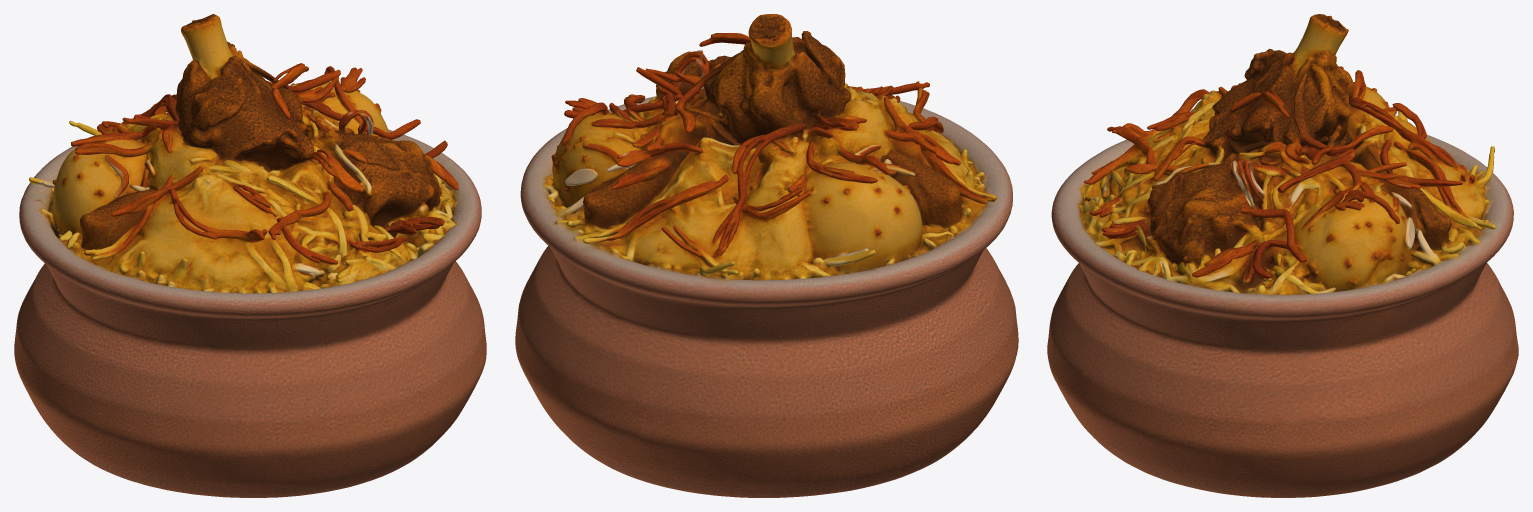
File: kacchi-biryani-raw.glb
3 renders of one model, left to right at view 1: azimuth 30°, elevation 25°; view 2: azimuth 150°, elevation 25°; view 3: azimuth 270°, elevation 25°, orthographic. The views are drawn at different scales.
Visible parts, largest first — view 1: tripo_node_d4928ed3-e939-4852-9480-589586ad4197; view 2: tripo_node_d4928ed3-e939-4852-9480-589586ad4197; view 3: tripo_node_d4928ed3-e939-4852-9480-589586ad4197.
Part boxes in pixels (left/top/right/bottom): tripo_node_d4928ed3-e939-4852-9480-589586ad4197: left=14, top=14, right=486, bottom=497; tripo_node_d4928ed3-e939-4852-9480-589586ad4197: left=515, top=14, right=1018, bottom=497; tripo_node_d4928ed3-e939-4852-9480-589586ad4197: left=1047, top=14, right=1518, bottom=497.
Bounding box in the file's own units: 0.9983 × 0.9121 × 1.
Materials: 1 (1 with a texture image).
